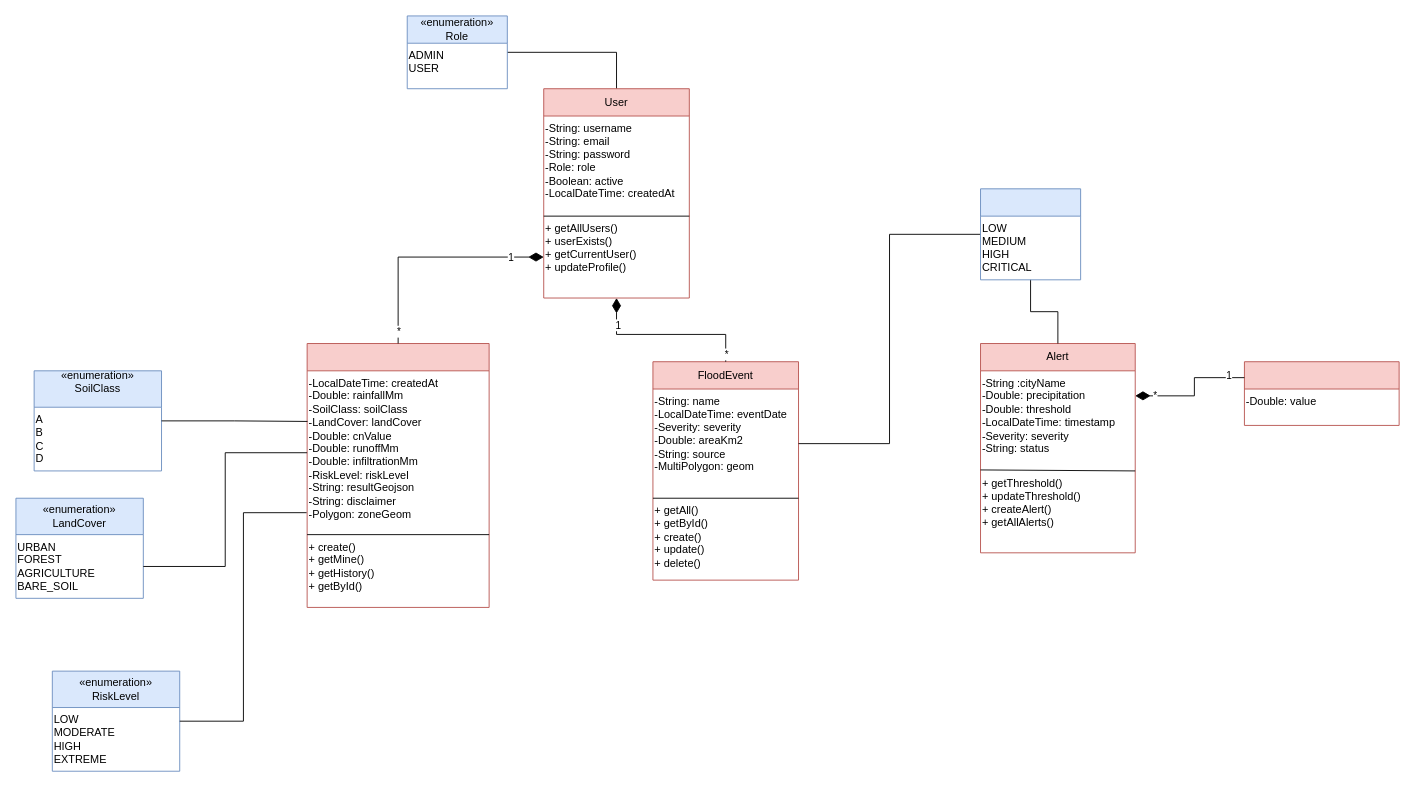
Some shapes in this 1415 by 787 pixel diagram are drawn without their labels. The shapes that lost their labels are listed below. From the top down, each one's box as (x1, y1, x2, y2) in pixels, then its label:
(980, 188, 1081, 280): «enumeration» Severity
(1244, 361, 1399, 425): AlertThreshold
(306, 343, 489, 607): Simulation
